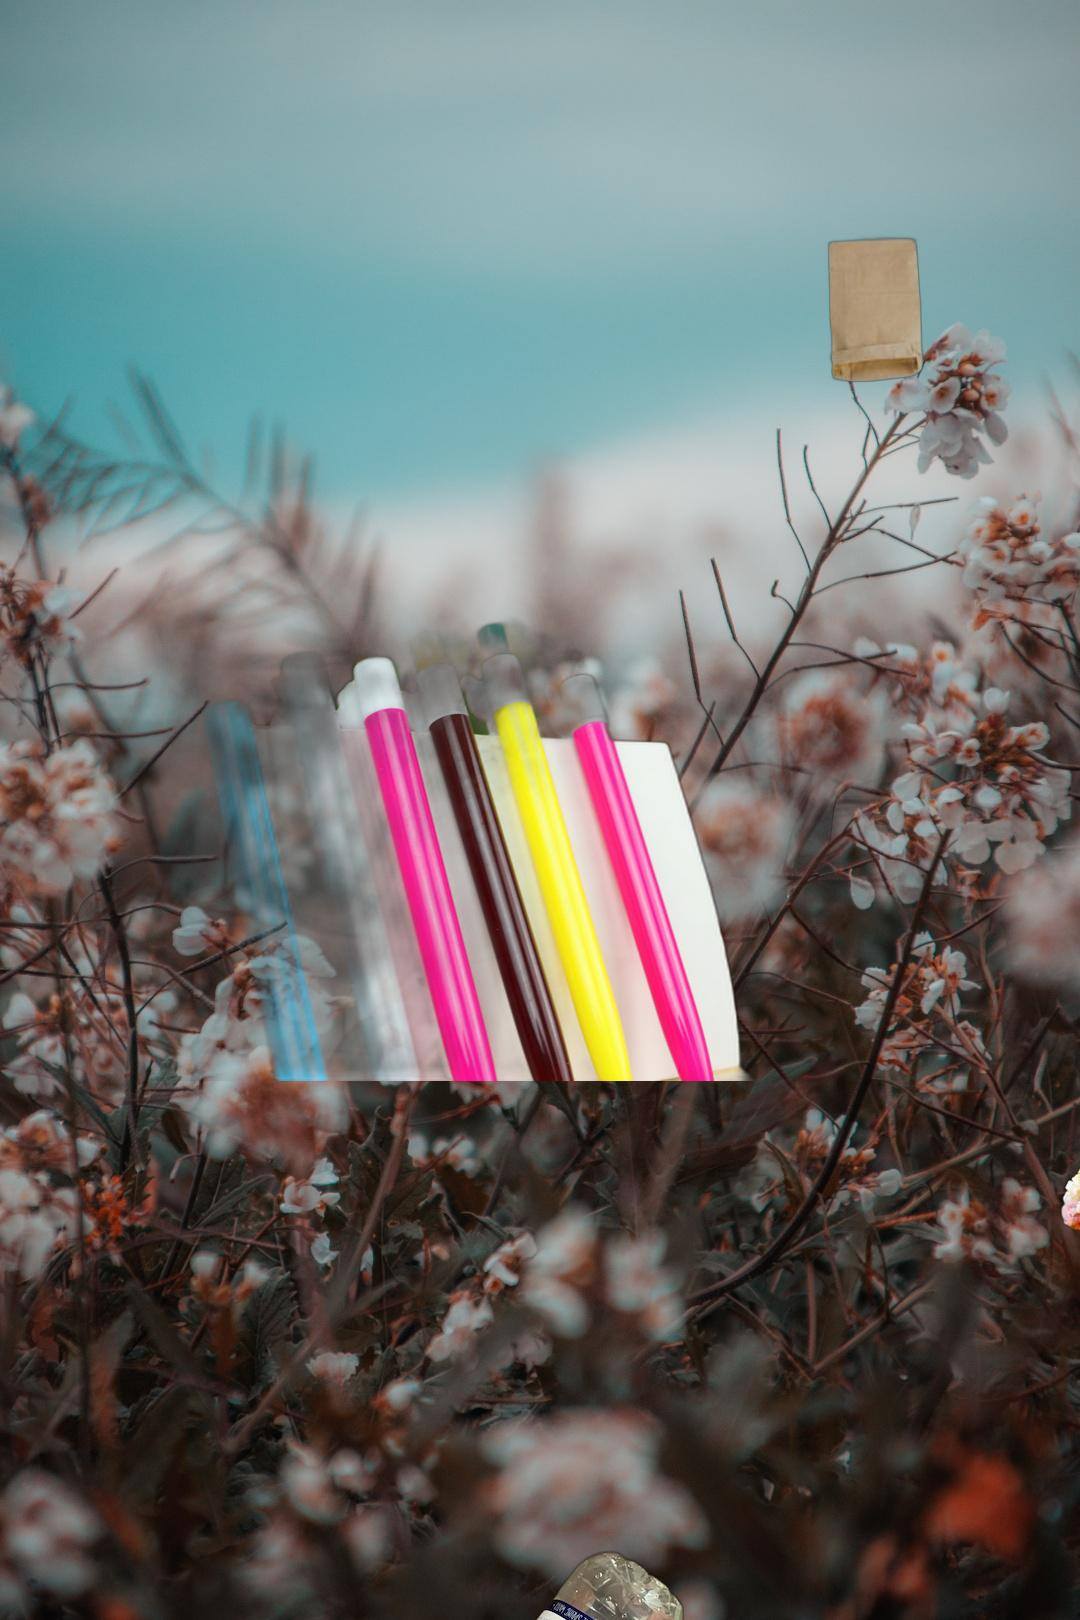biological: (1060, 1141, 1080, 1250)
paper-bag: (824, 234, 926, 385)
penholder: (69, 560, 763, 1081)
plastic-bottles: (400, 1546, 687, 1620)
trashbox-cardboard: (999, 693, 1080, 1380)
